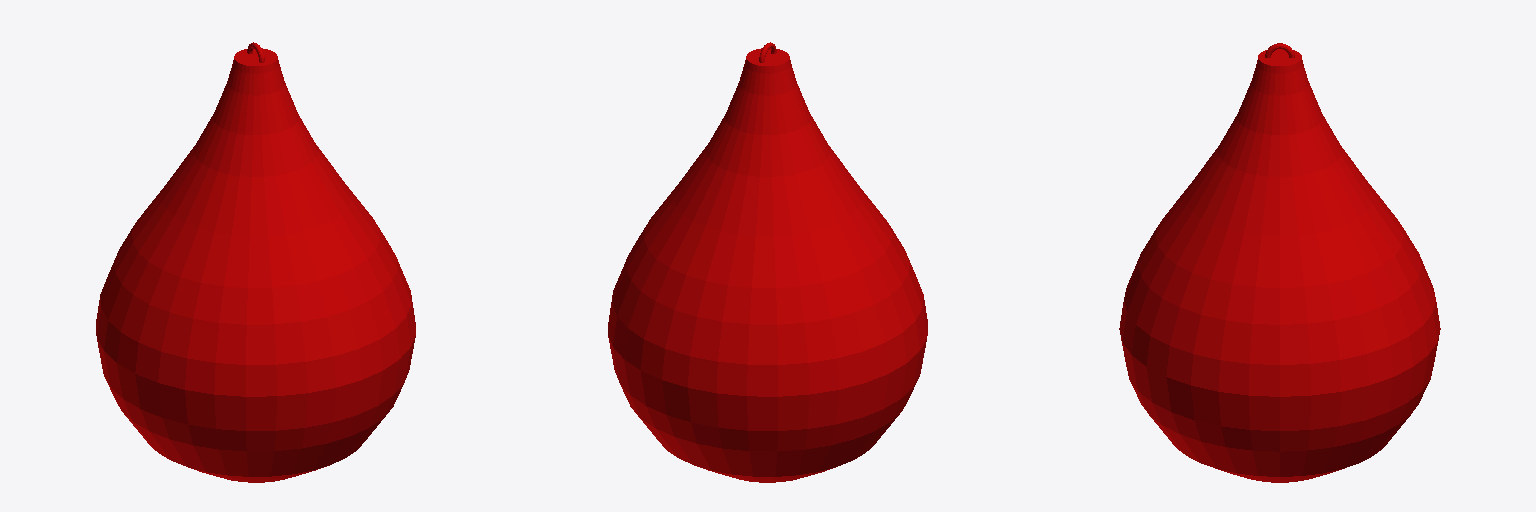
The model's file is Bag 1.obj.
The picture shows the model from 3 angles: view 1: azimuth 30°, elevation 25°; view 2: azimuth 150°, elevation 25°; view 3: azimuth 270°, elevation 25°; orthographic projection.
Visible parts, largest first — view 1: Bag; view 2: Bag; view 3: Bag.
Boxes of the visible parts, box(x1,y1,x2,y2) form: Bag: box(96, 48, 415, 482); Bag: box(608, 48, 927, 482); Bag: box(1119, 49, 1440, 482).
Size of the model in its own units: 0.287 by 0.4188 by 0.287.